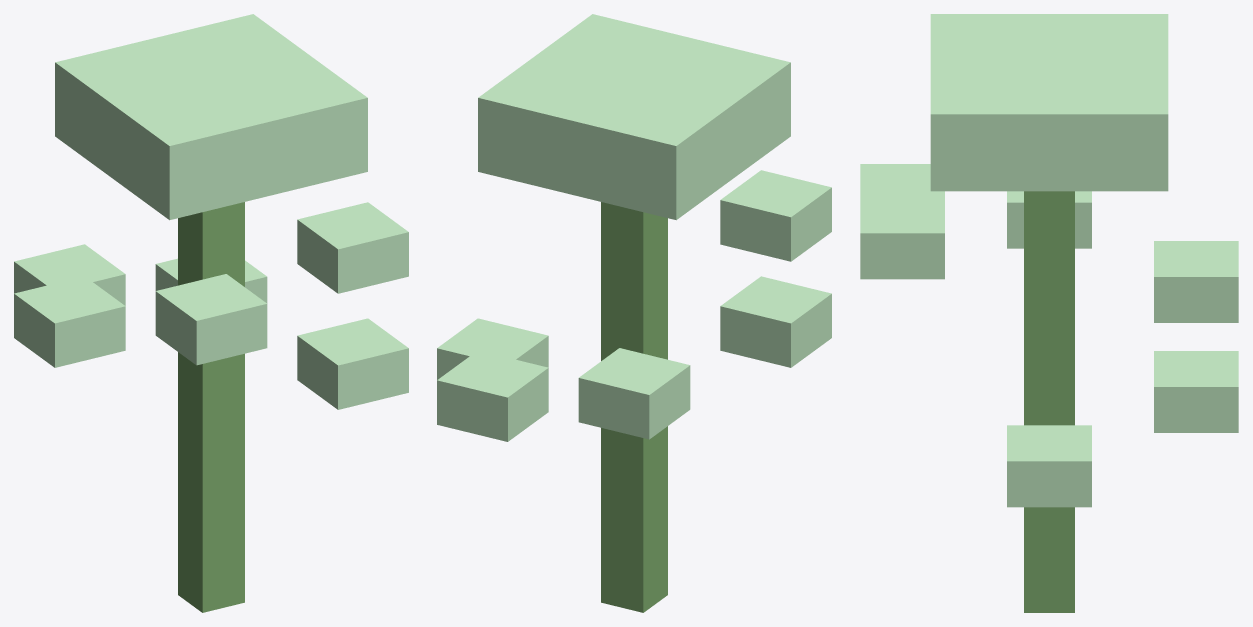
The model's file is Prop_DS_Herb_DefragMoss_S3_V3.glb.
The picture shows the model from 3 angles, left to right: view 1: azimuth 30°, elevation 25°; view 2: azimuth 150°, elevation 25°; view 3: azimuth 270°, elevation 25°; orthographic projection. The views are drawn at different scales.
Parts seen in each view (by area): view 1: Prop_DS_Herb_DefragMoss_S3_V3; view 2: Prop_DS_Herb_DefragMoss_S3_V3; view 3: Prop_DS_Herb_DefragMoss_S3_V3.
Part boxes in pixels (x1,y1,x2,y2): Prop_DS_Herb_DefragMoss_S3_V3: (14,14,408,612); Prop_DS_Herb_DefragMoss_S3_V3: (437,14,831,612); Prop_DS_Herb_DefragMoss_S3_V3: (860,14,1238,612).
Bounding box in the file's own units: 0.5 × 0.7 × 0.4464.
